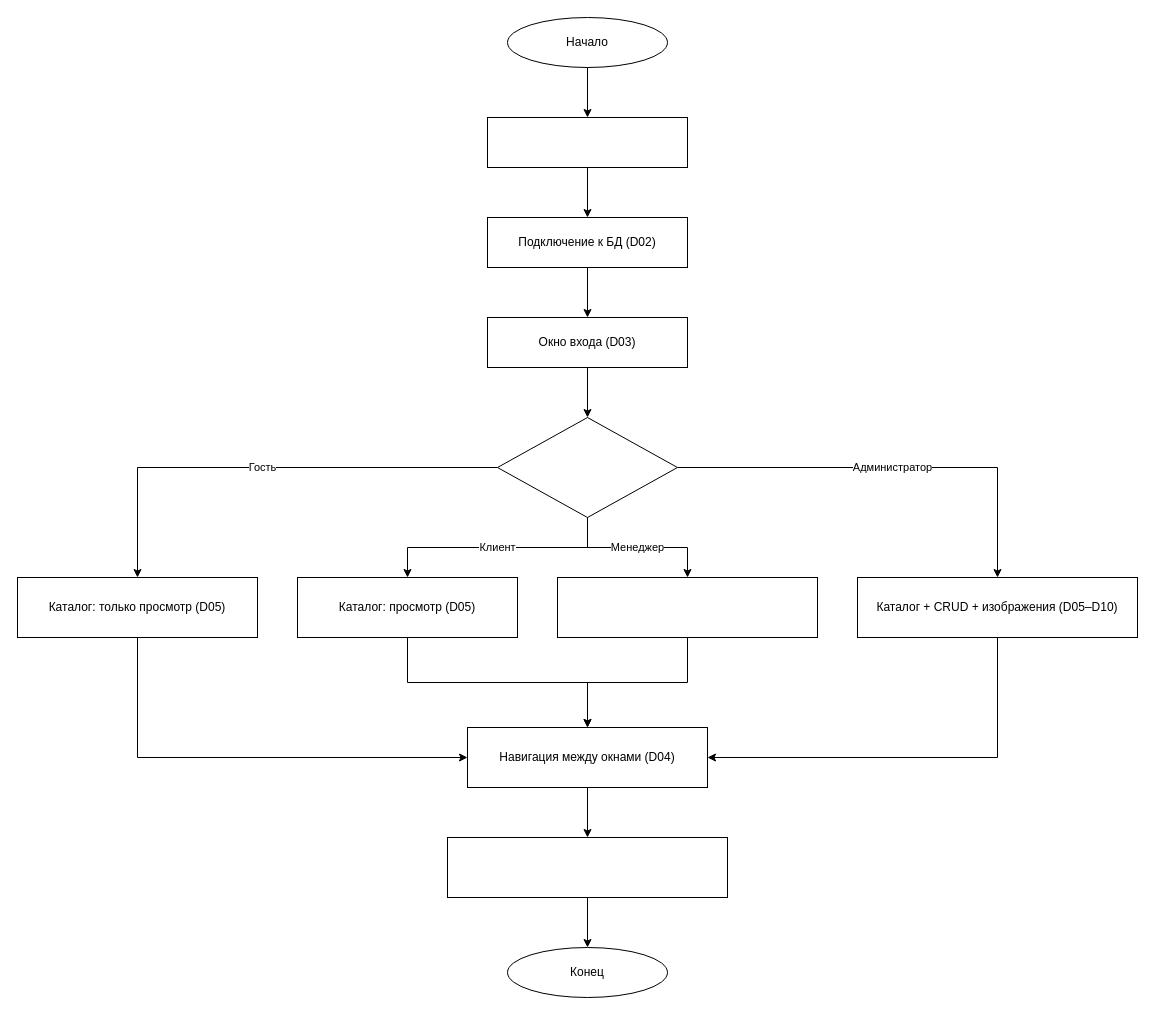
Image size: 1155x1015. Some labels were removed from this diagram. The shapes that lost their labels are listed below. From the top down, each one's box as (x1, y1, x2, y2) in pixels, then its label:
(486, 116, 688, 168): Запуск приложения (D02)
(496, 416, 678, 518): Роль?
(556, 576, 818, 638): Каталог + поиск/фильтр/сортировка (D05, D06)
(446, 836, 728, 898): Обработка сообщений/исключений (D11)
